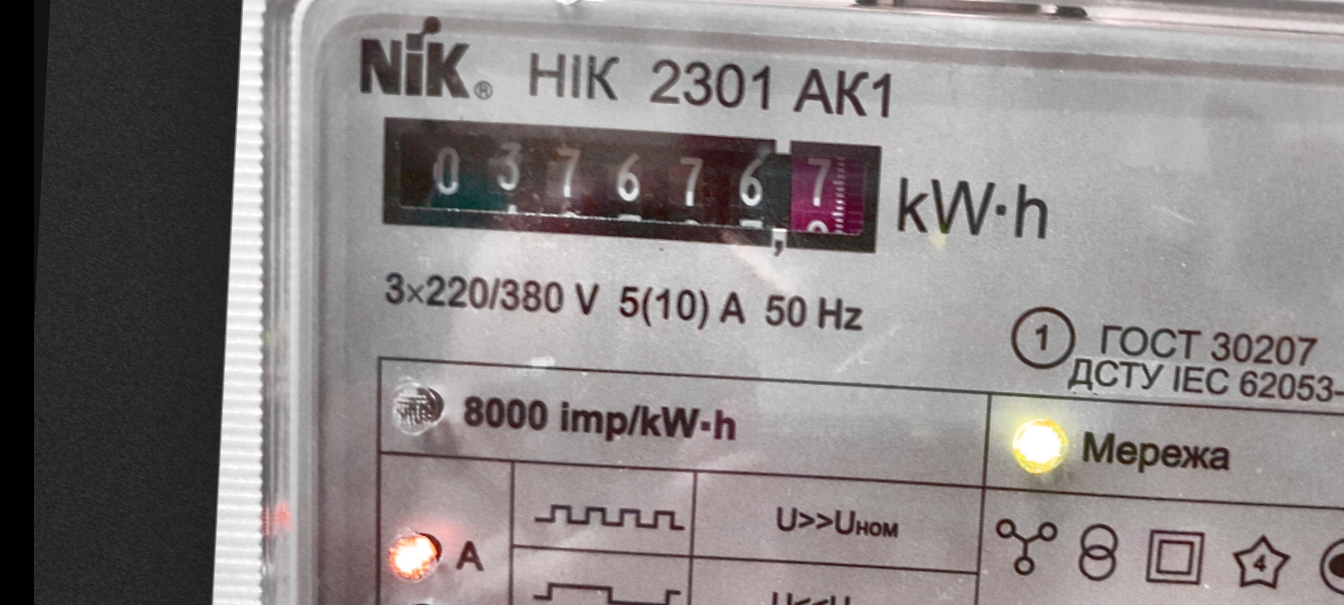0: (430, 141, 466, 197)
3: (493, 136, 523, 194)
6: (611, 147, 646, 203), (735, 153, 768, 209)
7: (673, 152, 707, 211), (550, 142, 584, 200), (803, 152, 833, 210)
screen: (363, 99, 898, 272)
